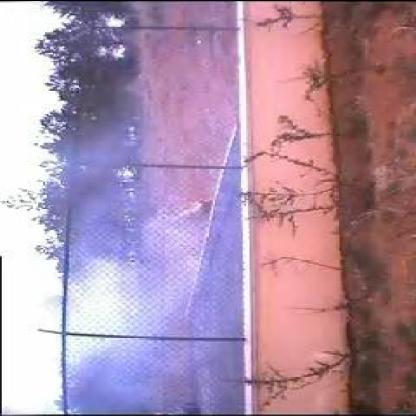-: (64, 184, 239, 396)
